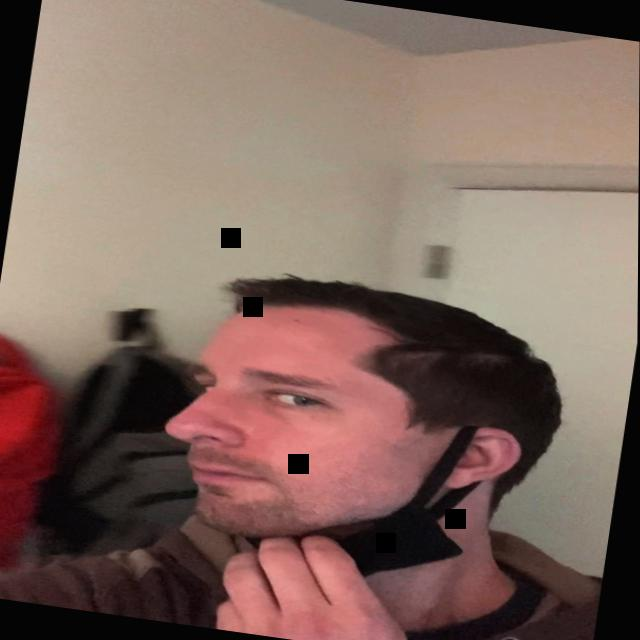NO-Mask: (144, 274, 528, 586)
